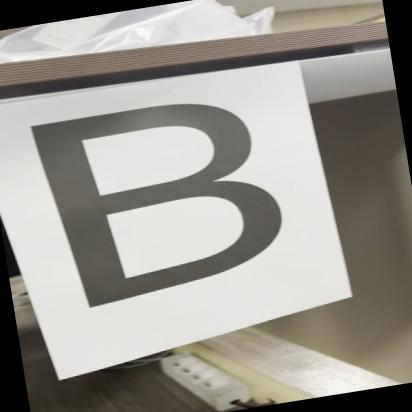seat: (18, 80, 304, 322)
